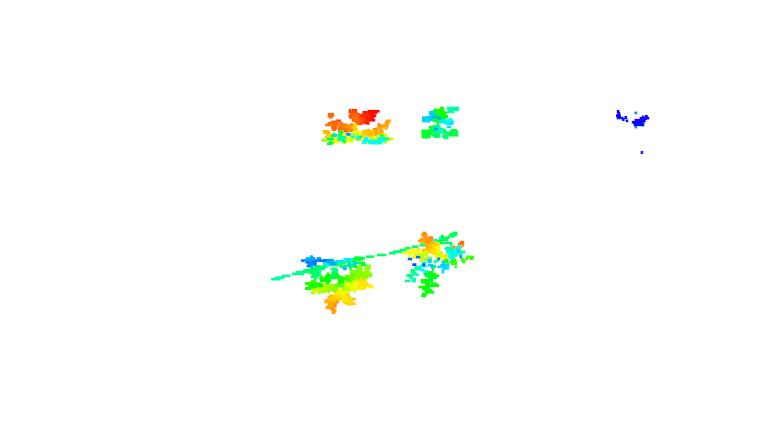chickpea: (299, 254, 381, 313), (402, 231, 473, 297), (317, 106, 394, 148), (415, 104, 464, 139)
